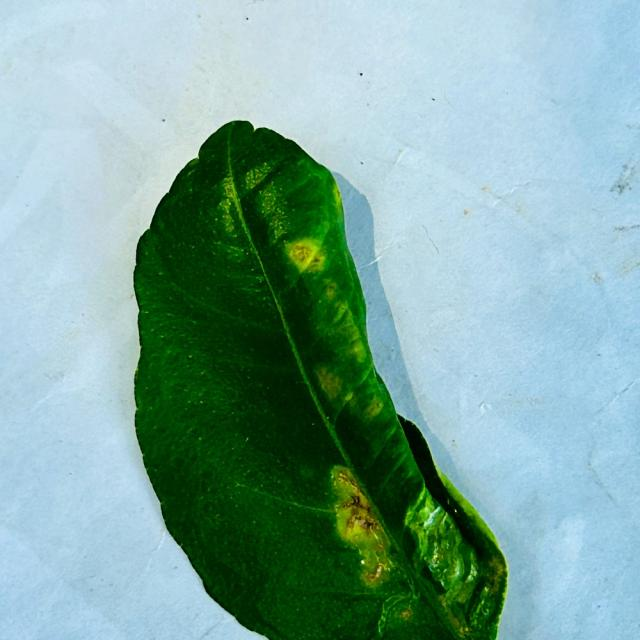Anthracnose: (327, 438, 481, 635), (330, 467, 400, 589), (332, 466, 395, 586), (287, 237, 325, 273)
Lemon: (132, 120, 510, 639)
